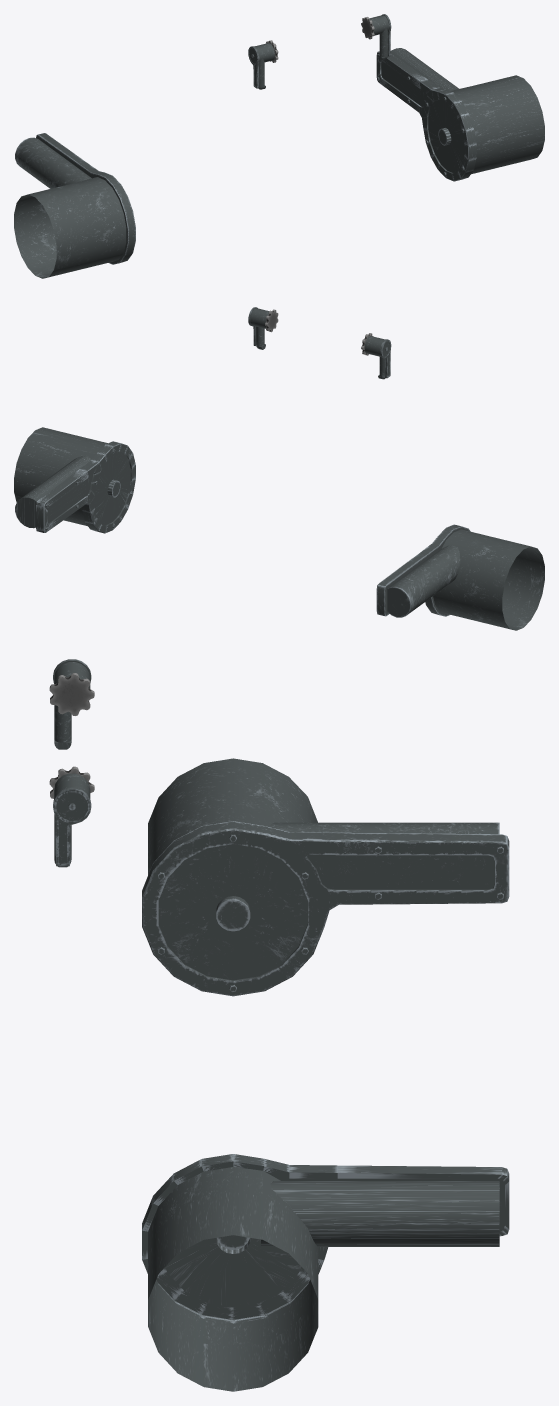
The model's file is TurretRotaryMechanism.FBX.
3 renders of one model, top to bottom at view 1: azimuth 30°, elevation 25°; view 2: azimuth 150°, elevation 25°; view 3: azimuth 270°, elevation 25°, orthographic. The views are drawn at different scales.
Parts seen in each view (by area): view 1: TurelRotor_L, TurelRotor_R, ElevationRotor_R, ElevatorRotor_L; view 2: TurelRotor_R, TurelRotor_L, ElevationRotor_R, ElevatorRotor_L; view 3: TurelRotor_L, TurelRotor_R, ElevatorRotor_L, Gear_R, ElevationRotor_R.
Part boxes in pixels (bbox=[...]): TurelRotor_L: bbox=[376, 48, 544, 181]; TurelRotor_R: bbox=[14, 133, 135, 278]; ElevationRotor_R: bbox=[248, 43, 274, 89]; ElevatorRotor_L: bbox=[369, 14, 391, 60]; TurelRotor_R: bbox=[376, 524, 544, 630]; TurelRotor_L: bbox=[14, 427, 135, 533]; ElevationRotor_R: bbox=[364, 336, 391, 379]; ElevatorRotor_L: bbox=[248, 307, 269, 349]; TurelRotor_L: bbox=[142, 1154, 509, 1391]; TurelRotor_R: bbox=[142, 758, 509, 996]; ElevatorRotor_L: bbox=[53, 773, 91, 867]; Gear_R: bbox=[49, 673, 94, 715]; ElevationRotor_R: bbox=[53, 659, 91, 749].
Bounding box in the file's own units: 440 × 188 × 179.
1 material, 1 textured.
